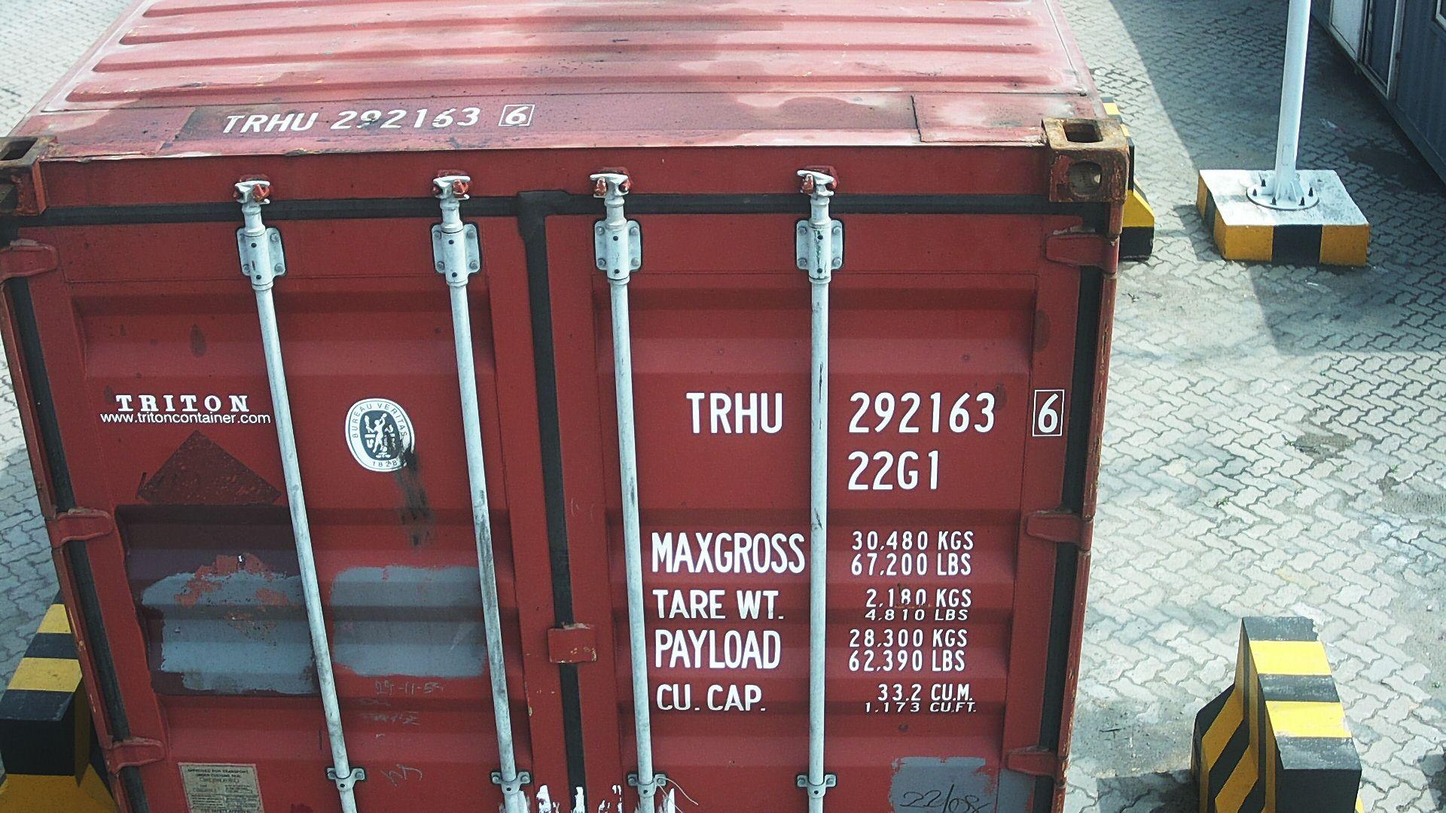container-numbers: (684, 385, 1070, 440), (213, 102, 542, 136), (844, 447, 946, 495)
